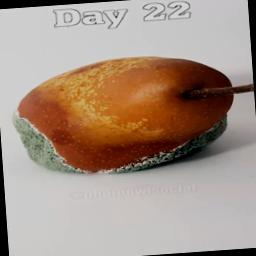Pear Rotten: (6, 46, 256, 184)
